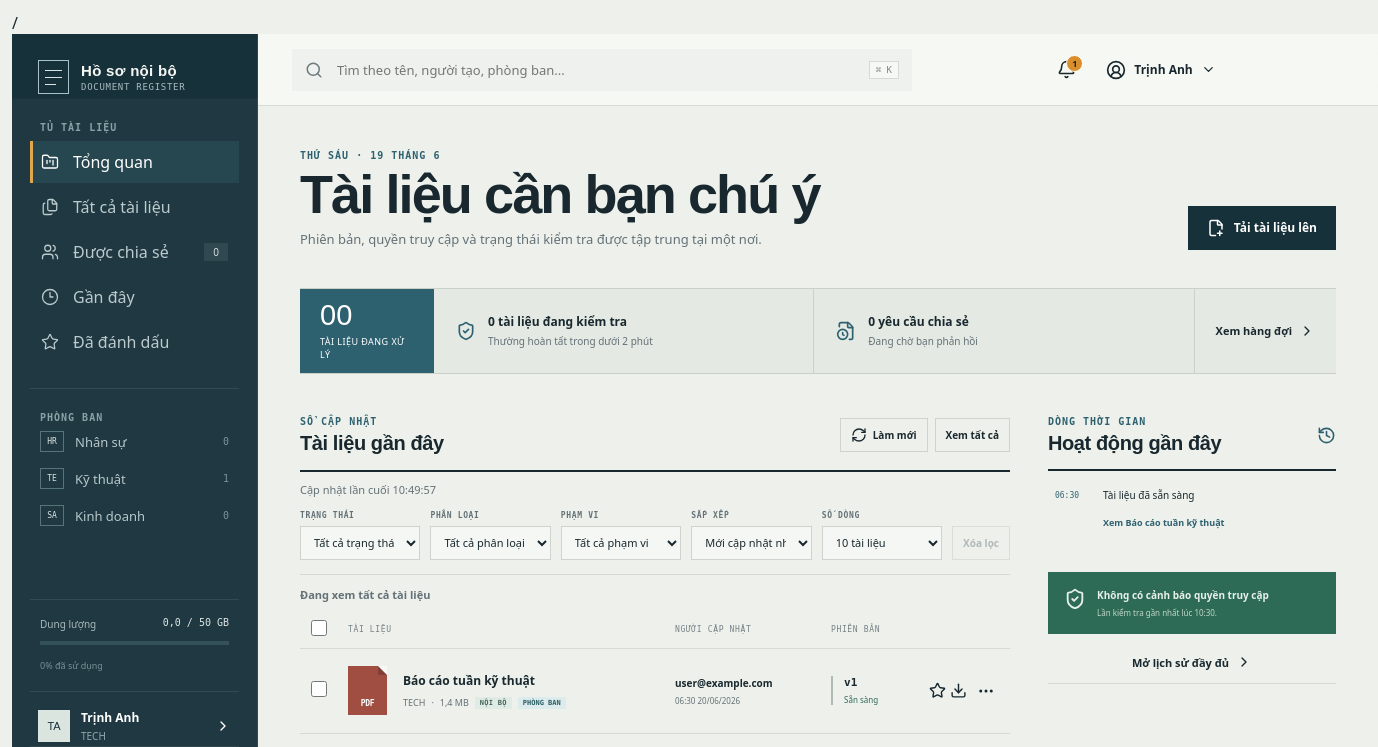
Test: App › bỏ đánh dấu tài liệu khỏi trang đã đánh dấu
Expected: the button "Báo cáo tuần kỹ thuật" is shown, [403,672,535,689]
Click the button named "Đánh dấu Báo cáo tuần kỹ thuật" at (937, 691), box [927,675,948,707]
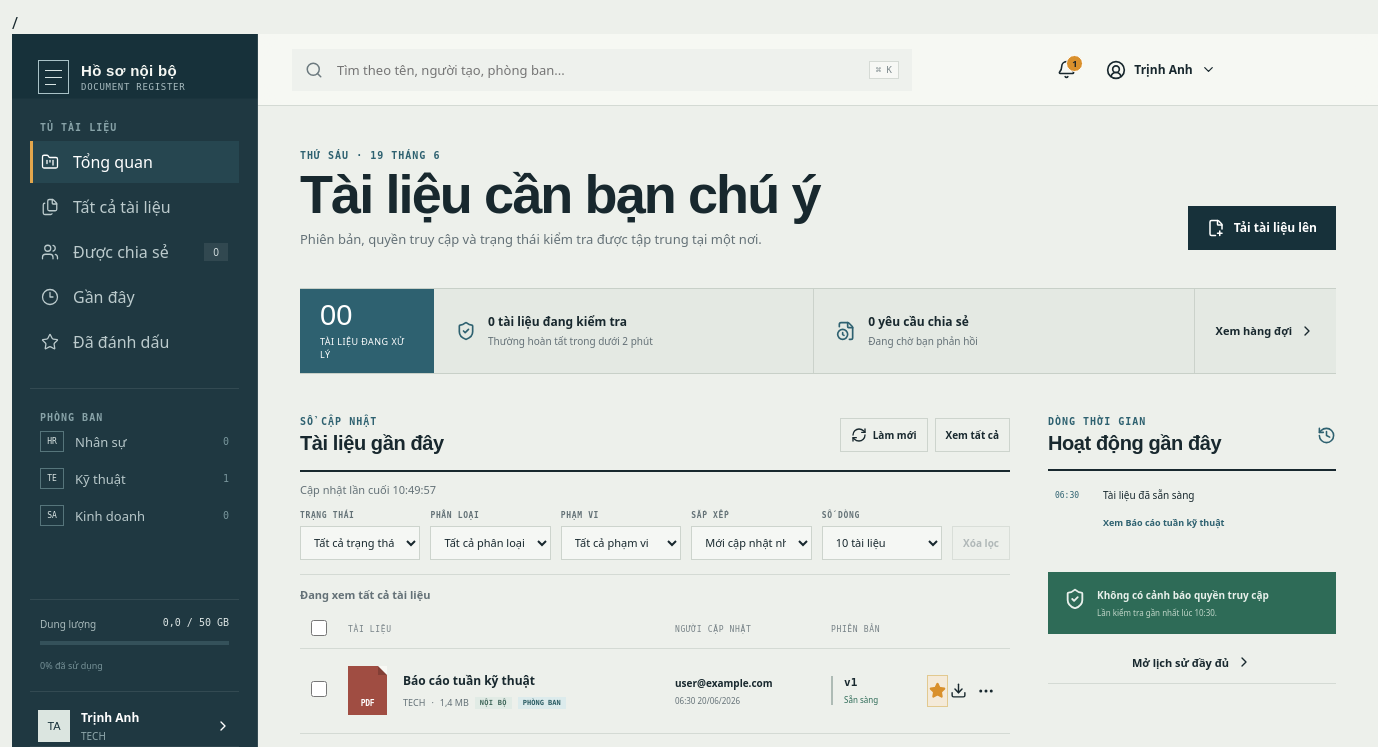
Click the button "Đã đánh dấu" at (134, 342), box [30,321,239,363]
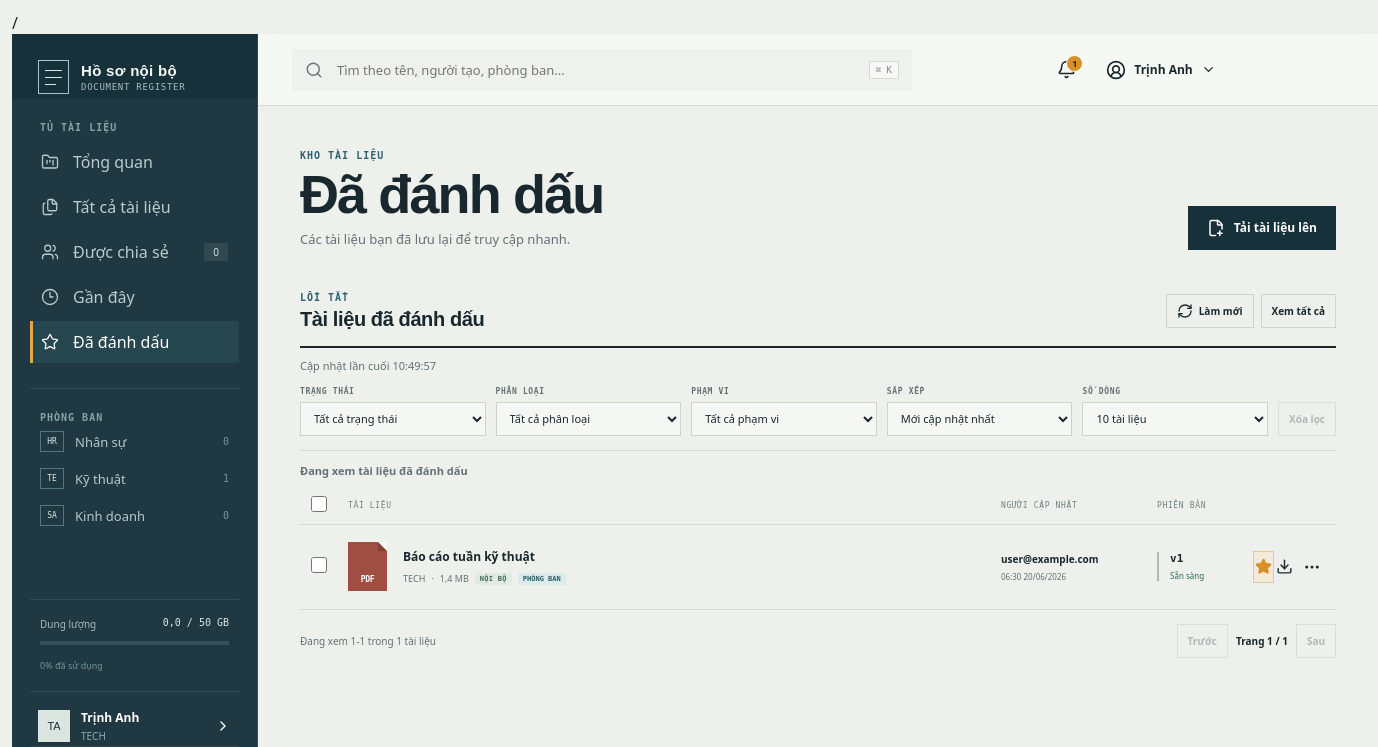
Expected: the button "Báo cáo tuần kỹ thuật" is shown, [403,548,535,565]
Click the button named "Bỏ đánh dấu Báo cáo tuần kỹ thuật" at (1263, 567), box [1253,551,1274,583]
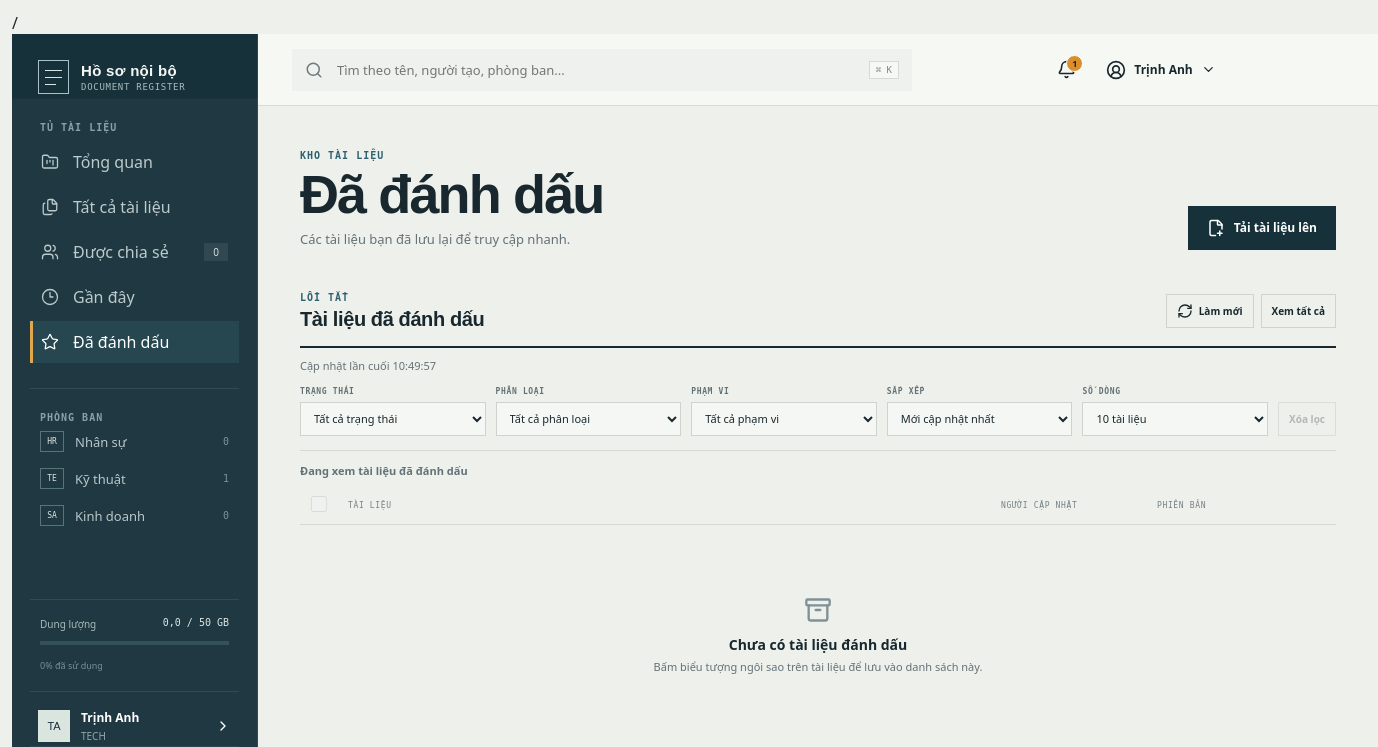
Now the heading "Chưa có tài liệu đánh dấu" is shown, box [729,635,907,654]
Now the button "Báo cáo tuần kỹ thuật" is gone
